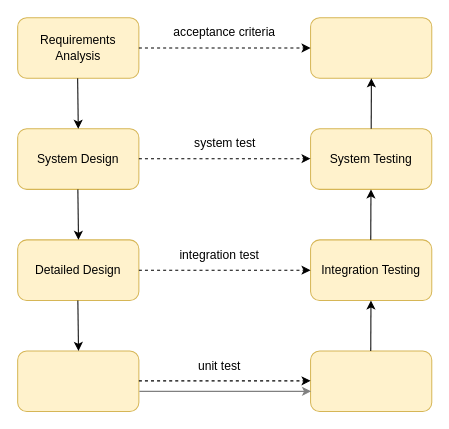
Image size: 449x429. Some labels were removed from this diagram. Each missing label, with the centre of its shape:
"Acceptance Testing" belongs at (371,47).
"Implementation & Coding" belongs at (78,381).
"Unit Testing" belongs at (371,381).
